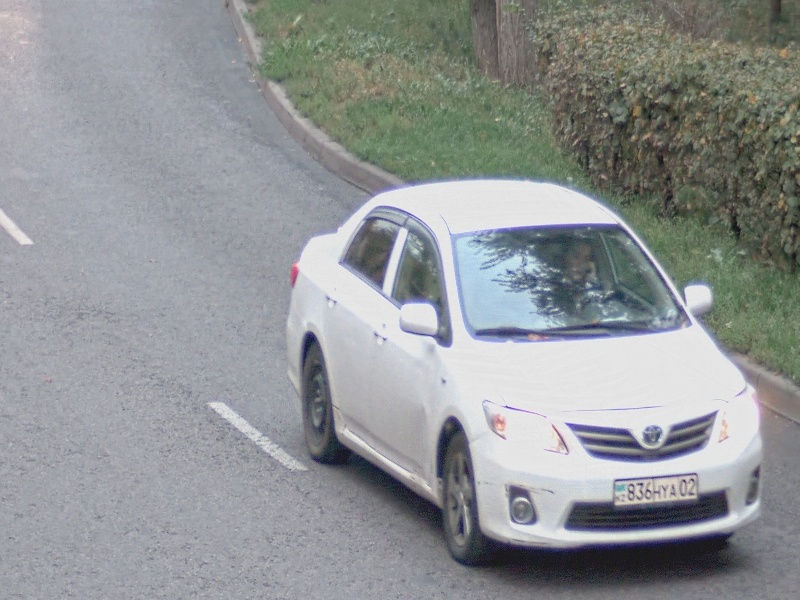plate: (612, 472, 699, 509)
